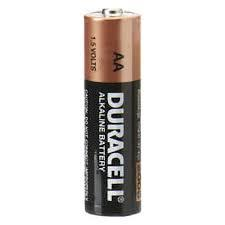AA: (80, 5, 145, 218)
